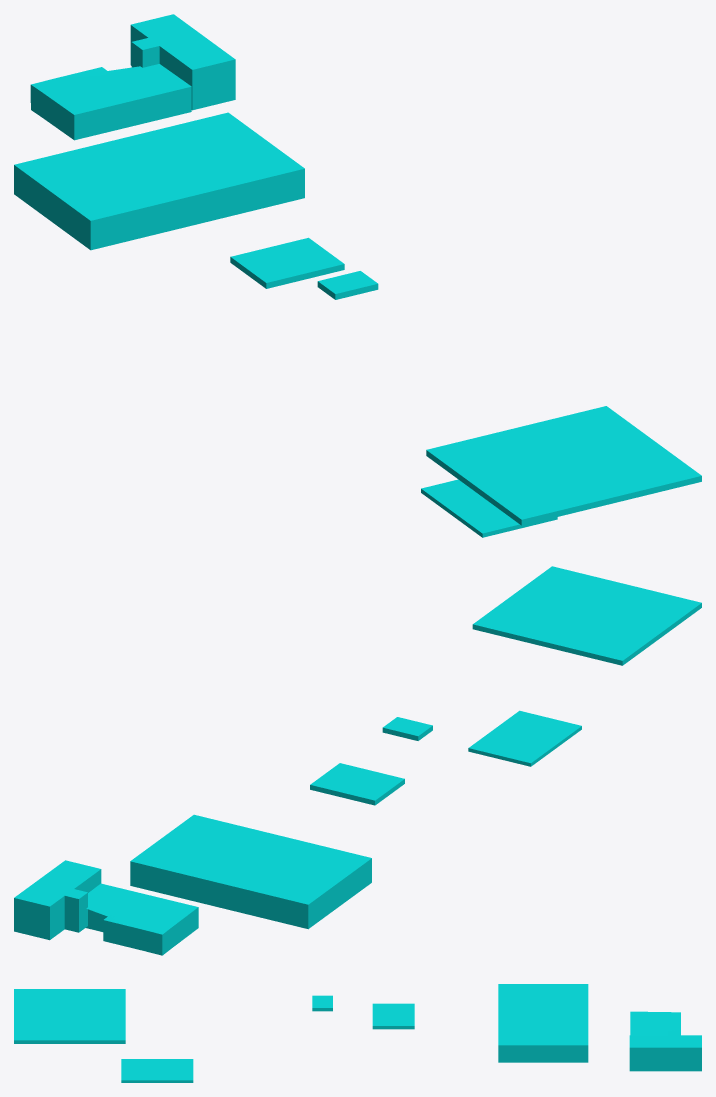
File: floor.fbx
3 renders of one model, top to bottom at view 1: azimuth 30°, elevation 25°; view 2: azimuth 150°, elevation 25°; view 3: azimuth 270°, elevation 25°, orthographic. The views are drawn at different scales.
Parts seen in each view (by area): view 1: Suelo_Estatico; view 2: Suelo_Estatico; view 3: Suelo_Estatico.
Part boxes in pixels (bbox=[...]): Suelo_Estatico: bbox=[14, 14, 701, 537]; Suelo_Estatico: bbox=[14, 566, 701, 955]; Suelo_Estatico: bbox=[14, 984, 701, 1082].
Size of the model in its own units: 29.49 by 13.19 by 117.
